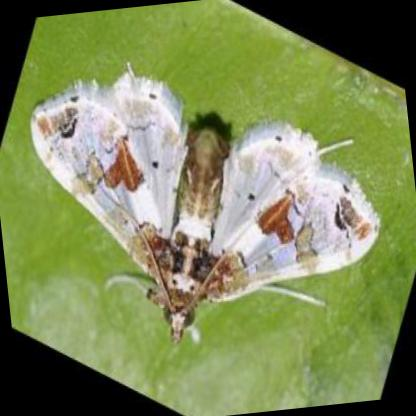leucinodes: (30, 72, 377, 342)
